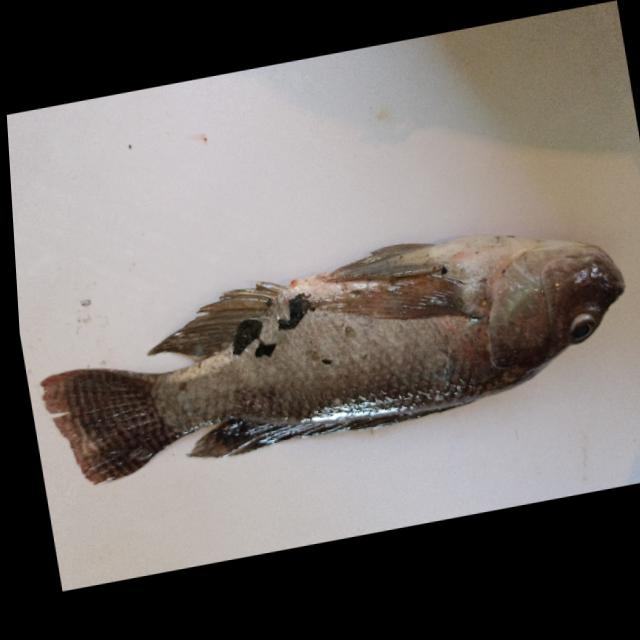Tilapia: (25, 194, 640, 491)
